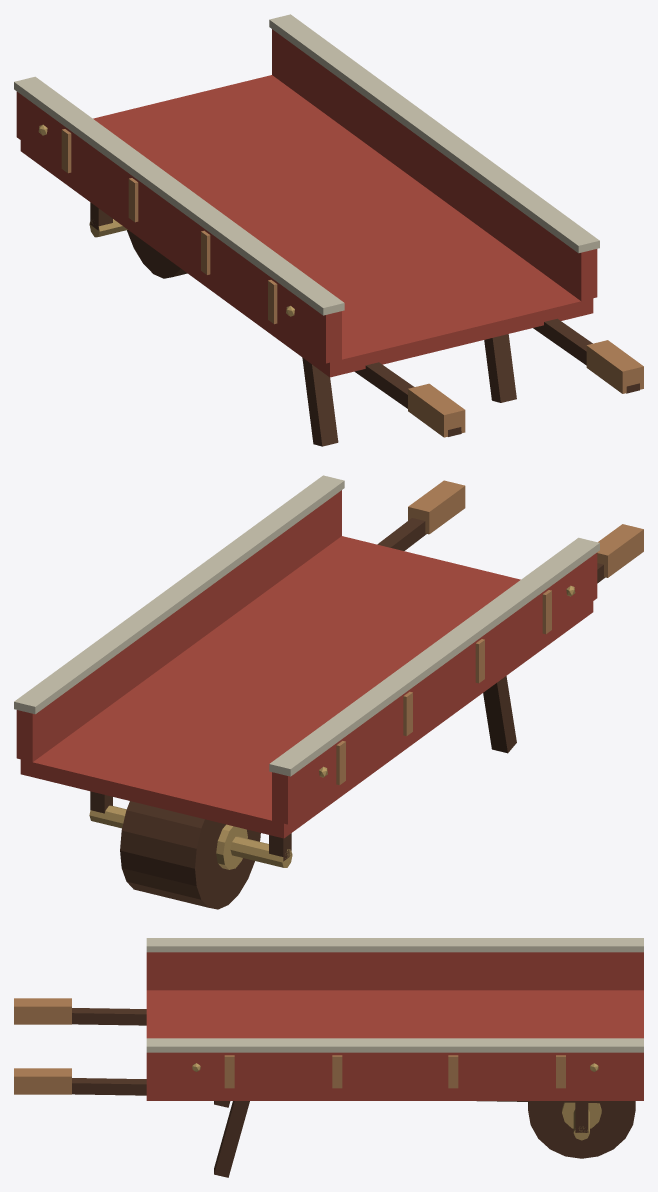
File: Backyard_WheelbarrowChute_Showcase.glb
3 views of the same model, one above another, from view 1: azimuth 30°, elevation 25°; view 2: azimuth 150°, elevation 25°; view 3: azimuth 270°, elevation 25° (orthographic). The views are drawn at different scales.
Visible parts, largest first — view 1: Backyard_WheelbarrowChute_Showcase; view 2: Backyard_WheelbarrowChute_Showcase; view 3: Backyard_WheelbarrowChute_Showcase.
Part boxes in pixels (box(x1,y1,x2,y2)): Backyard_WheelbarrowChute_Showcase: box(14, 14, 643, 446); Backyard_WheelbarrowChute_Showcase: box(14, 475, 643, 909); Backyard_WheelbarrowChute_Showcase: box(14, 938, 643, 1177).
Size of the model in its own units: 3.22 by 2.02 by 7.6.
